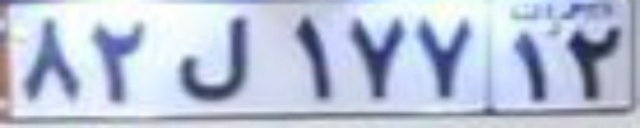1: (294, 18, 332, 99), (506, 30, 549, 100)
2: (88, 18, 145, 102), (563, 25, 621, 101)
7: (344, 13, 405, 99), (414, 13, 474, 98)
8: (14, 18, 82, 105)
lam: (174, 14, 254, 102)
